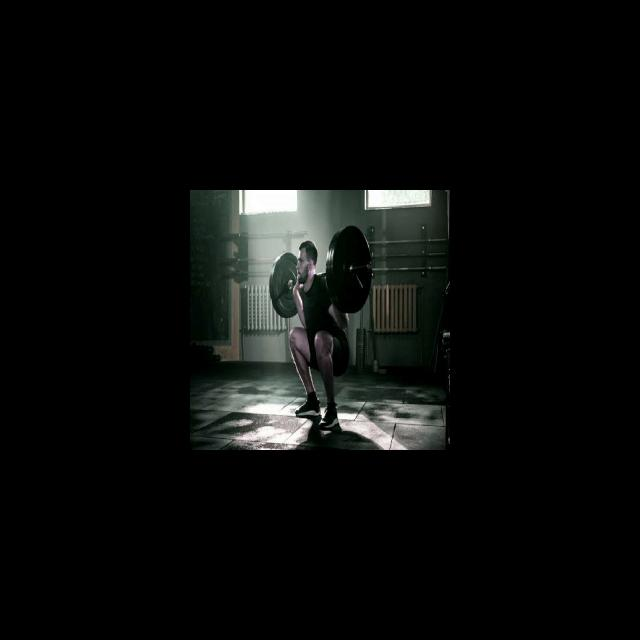barbell: (329, 223, 374, 314)
